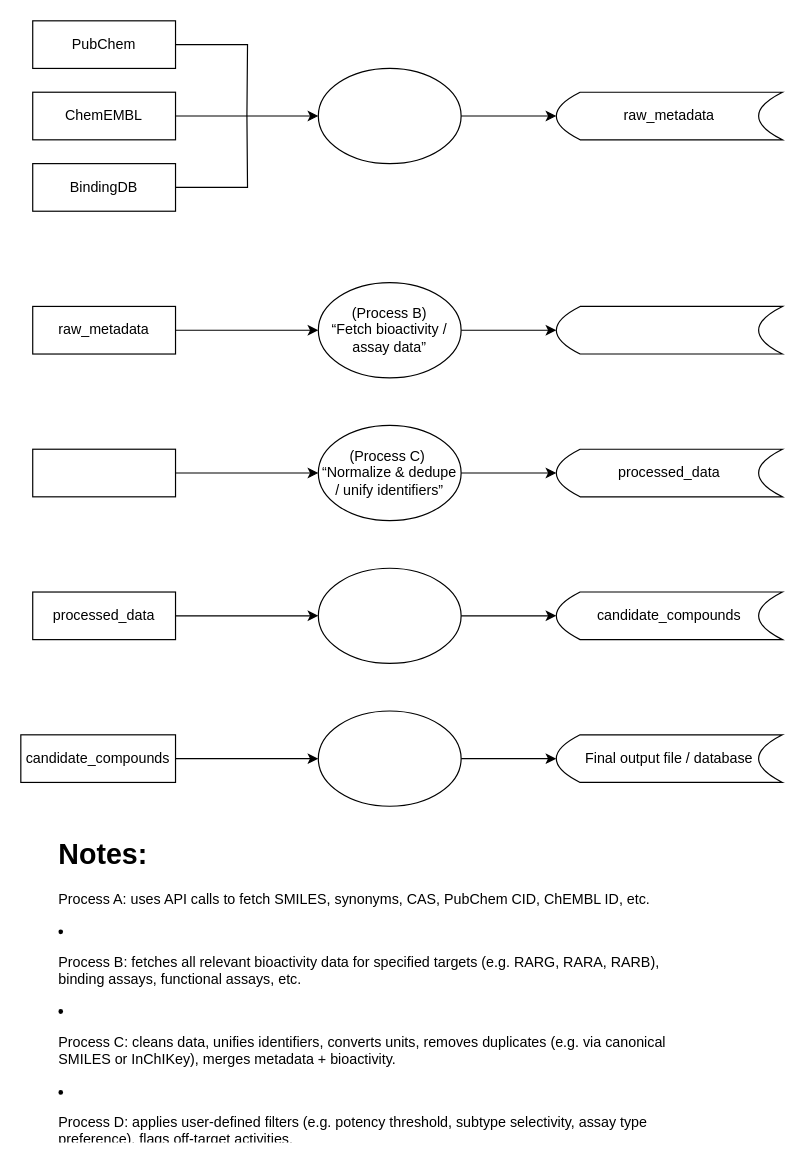
Image size: 803x1167. Some labels were removed from this diagram. The shapes that lost their labels are listed below. From the top down, each one's centre as x and y in pixels, then its label:
At (389,115): "(Process A) “Fetch metadata”".
At (668,329): "raw_bioactivity".
At (104,472): "raw_metadata + raw_bioactivity".
At (389,615): "(Process D) “Filter & prioritize (potency, selectivity, assay quality)”".
At (389,758): "(Process E) “Export & output”".
